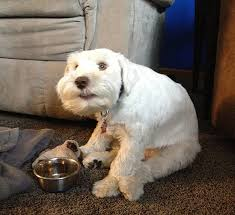dog_sitting: (55, 47, 202, 203)
